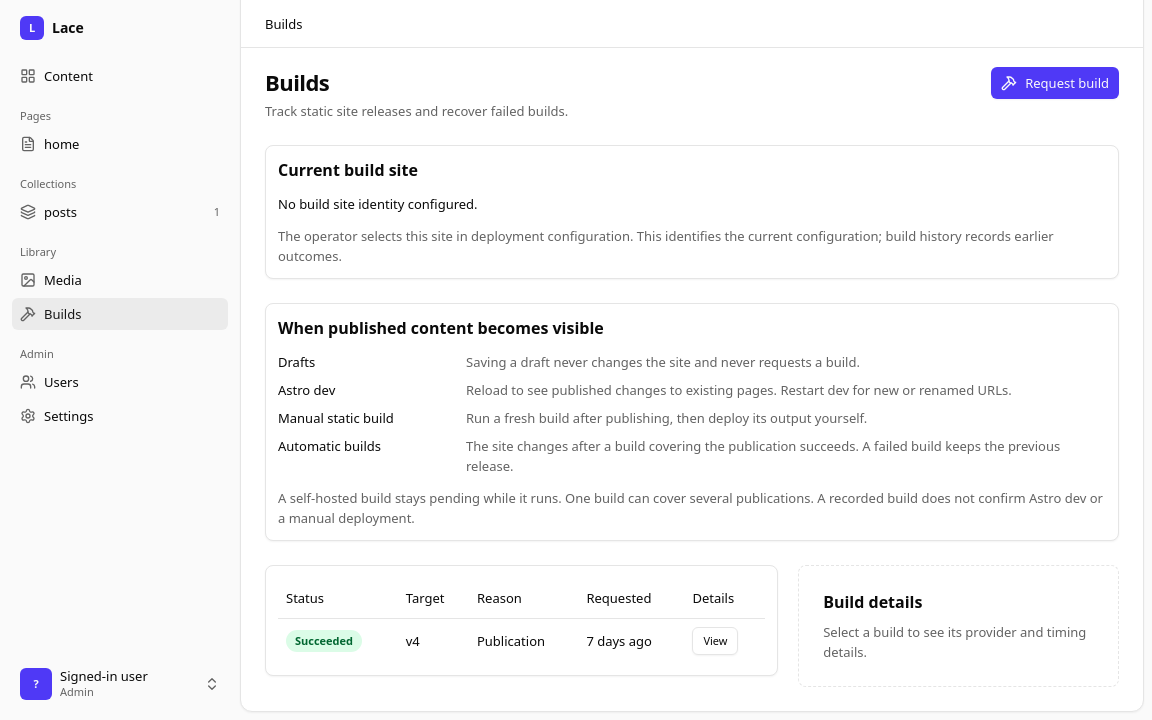
Test case: a successful build shows completion without a retry action
(page scrolled)
What coordinates should you click on to do the following:
click the button with aria-label "View build for version 4"
I would click on:
 (715, 640)
Its box is [692,626,738,654].
(page scrolled)
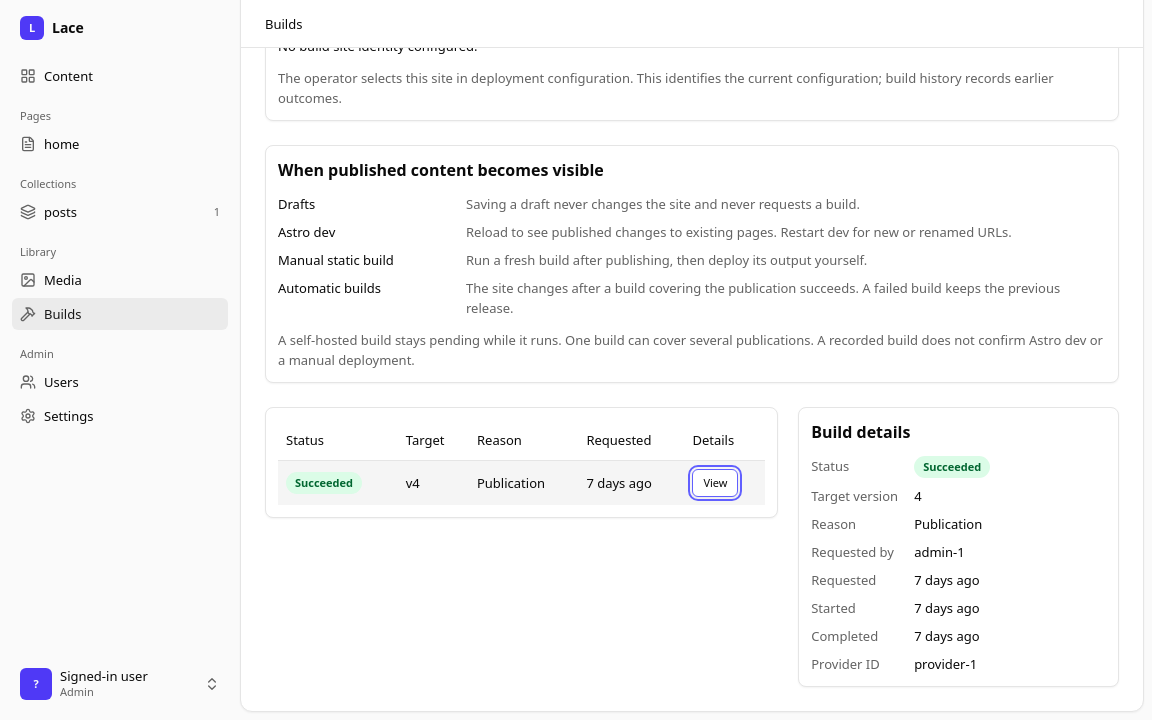
Expected: the text "Succeeded" below "Build details" is shown, [923,459,981,474]
Expected: the text "provider-1" is shown, [914,655,977,673]
